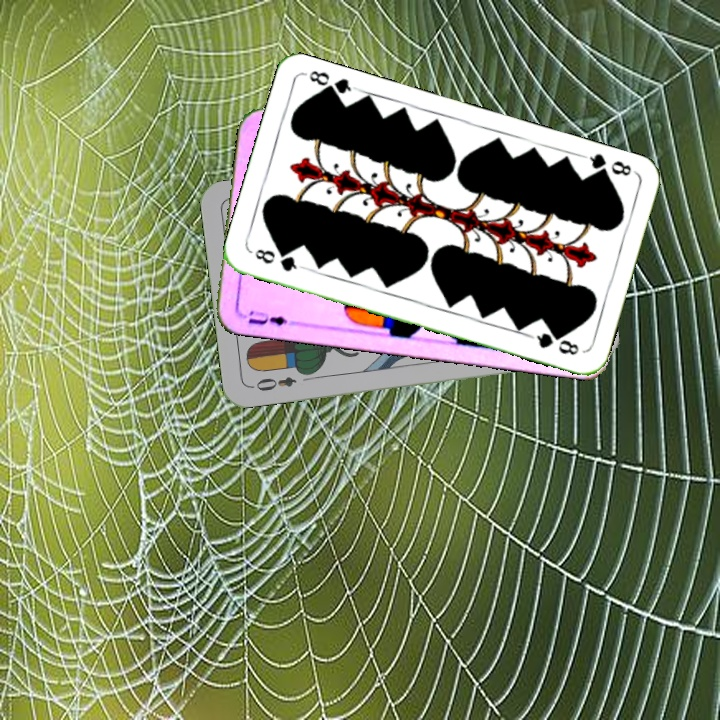EO: (247, 373, 299, 394)
EU: (238, 306, 298, 328)
G8: (579, 149, 637, 181), (251, 245, 306, 274)
